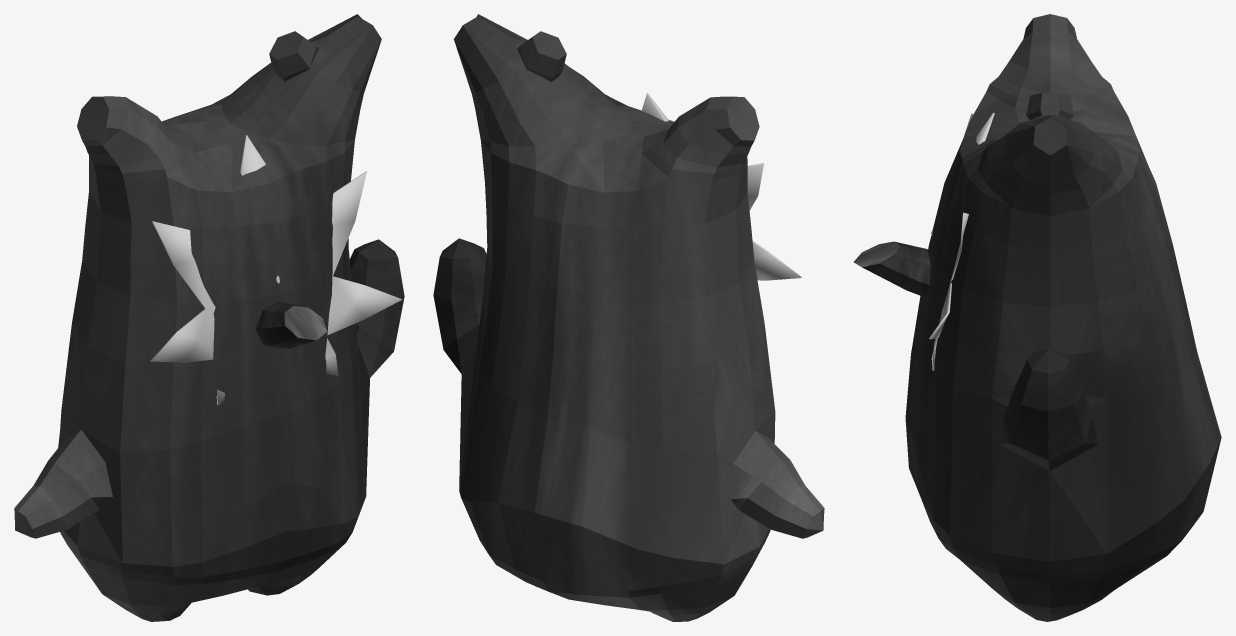
Rendered from frame_0042.obj.
The picture shows the model from 3 angles, left to right: view 1: azimuth 30°, elevation 25°; view 2: azimuth 150°, elevation 25°; view 3: azimuth 270°, elevation 25°; orthographic projection. The views are drawn at different scales.
Visible parts, largest first — view 1: korok, leaf, nose.003_柱体.011; view 2: korok, leaf; view 3: korok, nose.003_柱体.011, leaf.
Boxes of the visible parts, <box> form: korok: <box>14,14,404,621</box>; leaf: <box>150,135,402,405</box>; nose.003_柱体.011: <box>255,301,326,348</box>; korok: <box>433,14,824,621</box>; leaf: <box>641,93,801,280</box>; korok: <box>905,14,1221,621</box>; nose.003_柱体.011: <box>853,241,930,297</box>; leaf: <box>929,112,994,370</box>.
Bounding box in the file's own units: 1.61 × 2.22 × 1.36.
